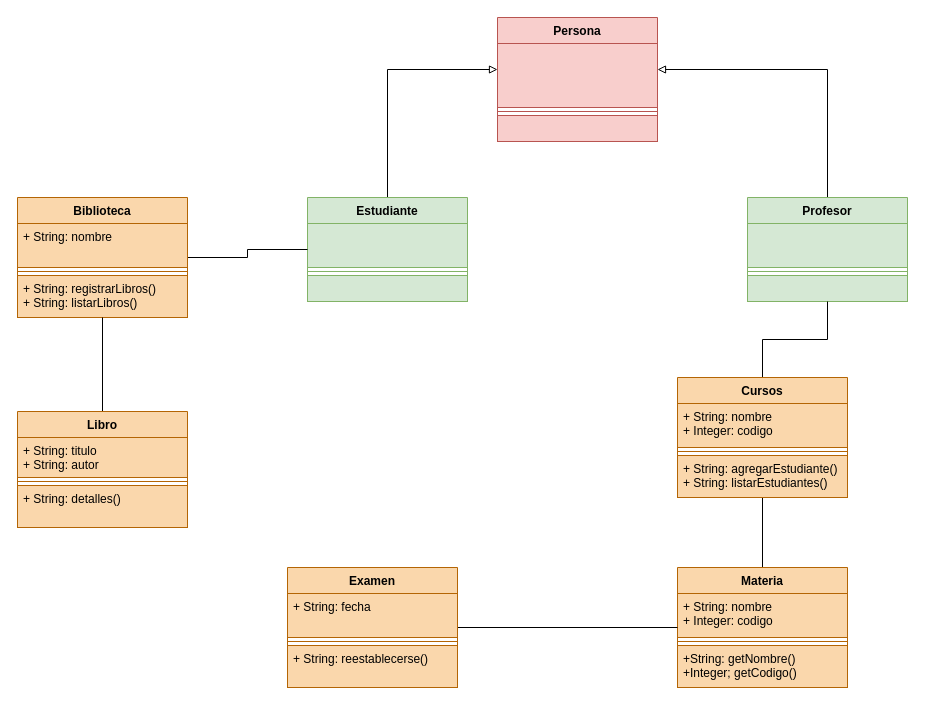
The diagram is 925 pixels wide and 708 high, and some of its shapes have lost their labels. Here are the shapes that lost their labels. From the top down, the centre of each, then its label:
At [577,75]: "+ String: nombres + String: id + Int: edad".
At [577,128]: "+ String: saluda()".
At [387,245]: "+ String: matricula".
At [827,245]: "+ String: especialidad".
At [387,288]: "+ String: estudiar()".
At [827,288]: "+ String: enseñar()".
